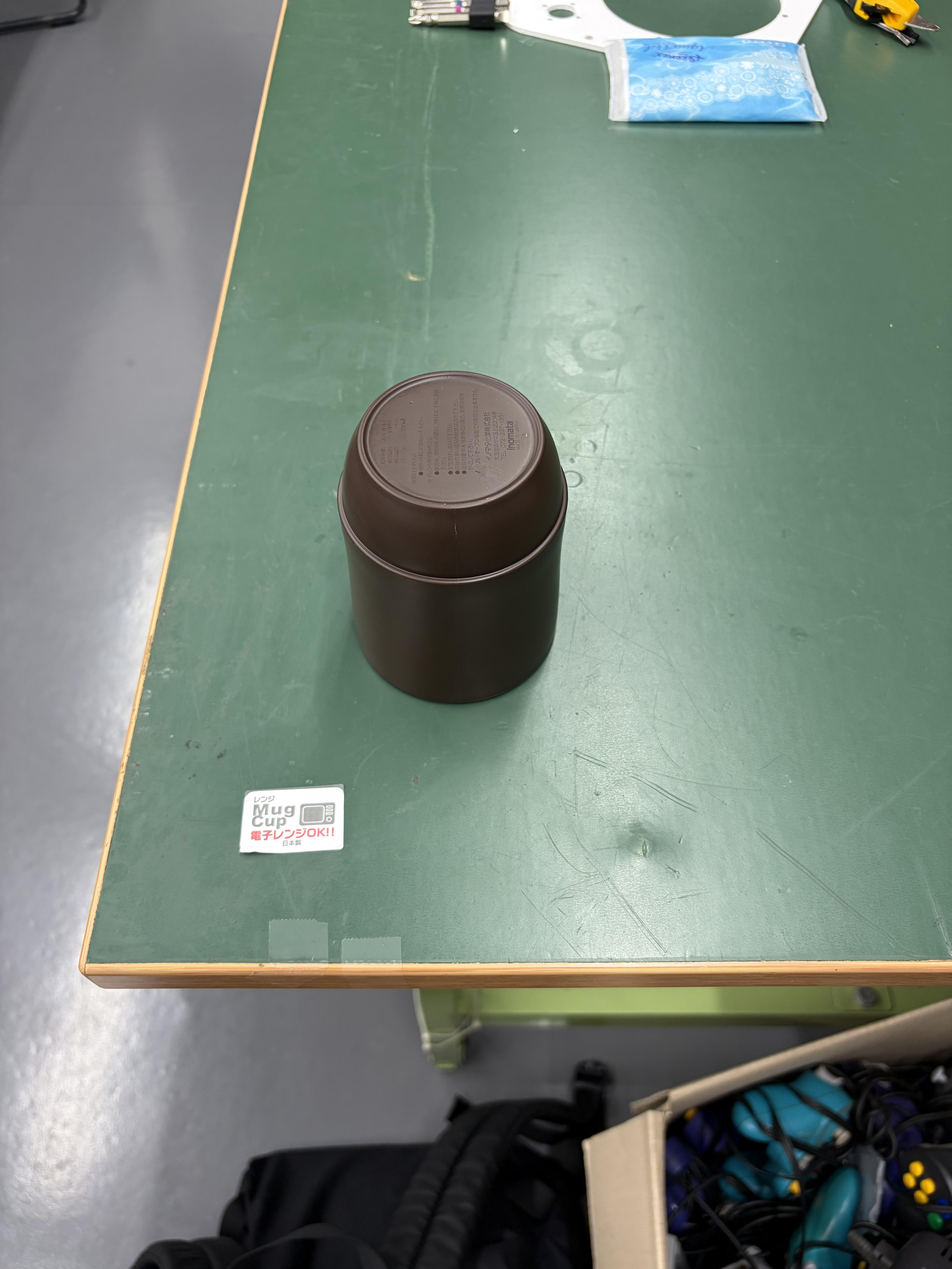mug-real100-3d100: (338, 372, 567, 703)
